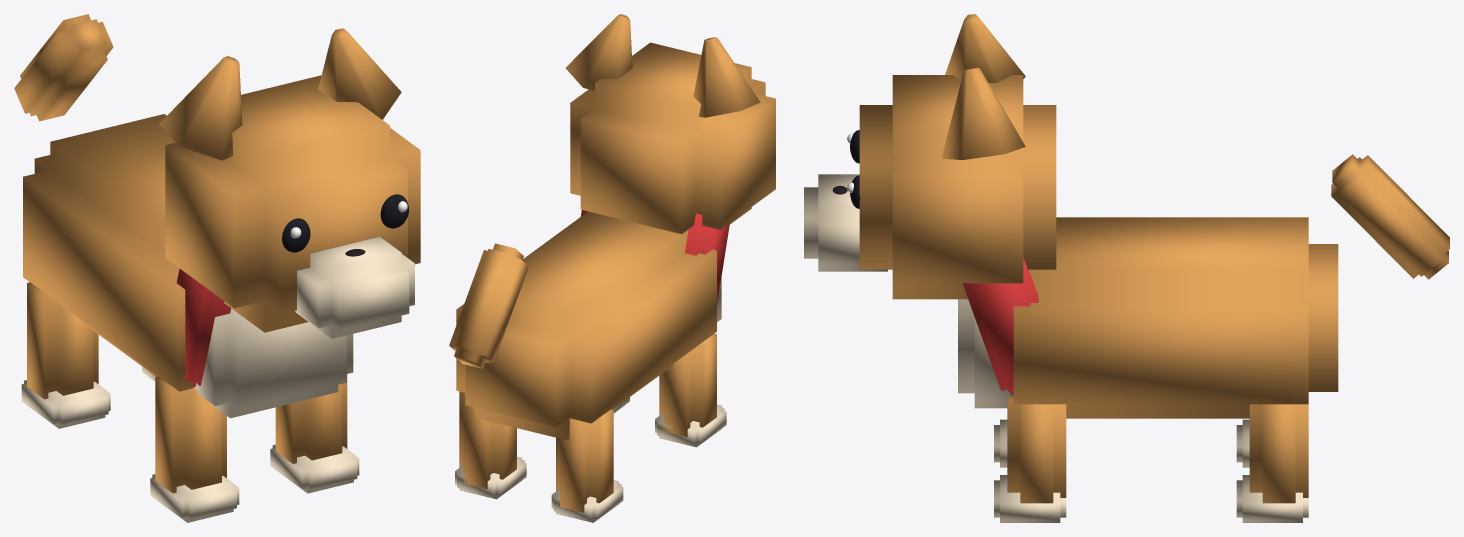
File: Pet_Dog_Shiba.glb
3 renders of one model, left to right at view 1: azimuth 30°, elevation 25°; view 2: azimuth 150°, elevation 25°; view 3: azimuth 270°, elevation 25°, orthographic. The views are drawn at different scales.
Parts seen in each view (by area): view 1: Pet_Dog_Shiba_Head, Pet_Dog_Shiba_Body, Pet_Dog_Shiba_Chest, Pet_Dog_Shiba_Muzzle, Pet_Dog_Shiba_Leg_F-1, Pet_Dog_Shiba_Tail, Pet_Dog_Shiba_Leg_B-1, Pet_Dog_Shiba_Ear_-1, Pet_Dog_Shiba_Leg_F1, Pet_Dog_Shiba_Ear_1, Pet_Dog_Shiba_Collar, Pet_Dog_Shiba_Paw_F1 (+4 smaller); view 2: Pet_Dog_Shiba_Body, Pet_Dog_Shiba_Head, Pet_Dog_Shiba_Tail, Pet_Dog_Shiba_Leg_B-1, Pet_Dog_Shiba_Leg_F-1, Pet_Dog_Shiba_Leg_B1, Pet_Dog_Shiba_Ear_-1, Pet_Dog_Shiba_Ear_1, Pet_Dog_Shiba_Collar, Pet_Dog_Shiba_Paw_F-1, Pet_Dog_Shiba_Paw_B1, Pet_Dog_Shiba_Paw_B-1; view 3: Pet_Dog_Shiba_Body, Pet_Dog_Shiba_Head, Pet_Dog_Shiba_Tail, Pet_Dog_Shiba_Leg_F1, Pet_Dog_Shiba_Leg_B1, Pet_Dog_Shiba_Muzzle, Pet_Dog_Shiba_Ear_1, Pet_Dog_Shiba_Collar, Pet_Dog_Shiba_Chest, Pet_Dog_Shiba_Ear_-1, Pet_Dog_Shiba_Paw_B1, Pet_Dog_Shiba_Paw_F1.
Part boxes in pixels (box(x1,y1,x2,y2)): Pet_Dog_Shiba_Head: box(165, 75, 420, 332); Pet_Dog_Shiba_Body: box(23, 114, 194, 391); Pet_Dog_Shiba_Chest: box(194, 308, 353, 418); Pet_Dog_Shiba_Muzzle: box(295, 237, 414, 338); Pet_Dog_Shiba_Leg_F-1: box(155, 376, 226, 493); Pet_Dog_Shiba_Tail: box(14, 14, 113, 121); Pet_Dog_Shiba_Leg_B-1: box(27, 282, 98, 399); Pet_Dog_Shiba_Ear_-1: box(159, 56, 242, 160); Pet_Dog_Shiba_Leg_F1: box(275, 374, 347, 463); Pet_Dog_Shiba_Ear_1: box(318, 28, 401, 119); Pet_Dog_Shiba_Collar: box(176, 269, 231, 386); Pet_Dog_Shiba_Paw_F1: box(270, 444, 359, 493); Pet_Dog_Shiba_Body: box(456, 211, 716, 440); Pet_Dog_Shiba_Head: box(570, 42, 775, 234); Pet_Dog_Shiba_Tail: box(449, 243, 528, 368); Pet_Dog_Shiba_Leg_B-1: box(556, 409, 613, 512); Pet_Dog_Shiba_Leg_F-1: box(659, 333, 716, 437); Pet_Dog_Shiba_Leg_B1: box(459, 391, 516, 489); Pet_Dog_Shiba_Ear_-1: box(693, 37, 760, 117); Pet_Dog_Shiba_Ear_1: box(565, 14, 632, 91); Pet_Dog_Shiba_Collar: box(580, 210, 729, 303); Pet_Dog_Shiba_Paw_F-1: box(655, 404, 726, 447); Pet_Dog_Shiba_Paw_B1: box(455, 456, 526, 499); Pet_Dog_Shiba_Paw_B-1: box(551, 480, 623, 522); Pet_Dog_Shiba_Body: box(1013, 217, 1338, 418); Pet_Dog_Shiba_Head: box(859, 75, 1056, 299); Pet_Dog_Shiba_Tail: box(1331, 154, 1449, 279); Pet_Dog_Shiba_Leg_F1: box(1007, 397, 1066, 503); Pet_Dog_Shiba_Leg_B1: box(1249, 404, 1308, 503); Pet_Dog_Shiba_Muzzle: box(804, 174, 887, 271); Pet_Dog_Shiba_Ear_1: box(941, 67, 1025, 159); Pet_Dog_Shiba_Collar: box(962, 257, 1038, 395); Pet_Dog_Shiba_Chest: box(958, 299, 1013, 408); Pet_Dog_Shiba_Ear_-1: box(945, 14, 1025, 82); Pet_Dog_Shiba_Paw_B1: box(1236, 475, 1308, 522); Pet_Dog_Shiba_Paw_F1: box(994, 475, 1066, 522).
Bounding box in the file's own units: 0.3696 × 0.7457 × 0.9854.
